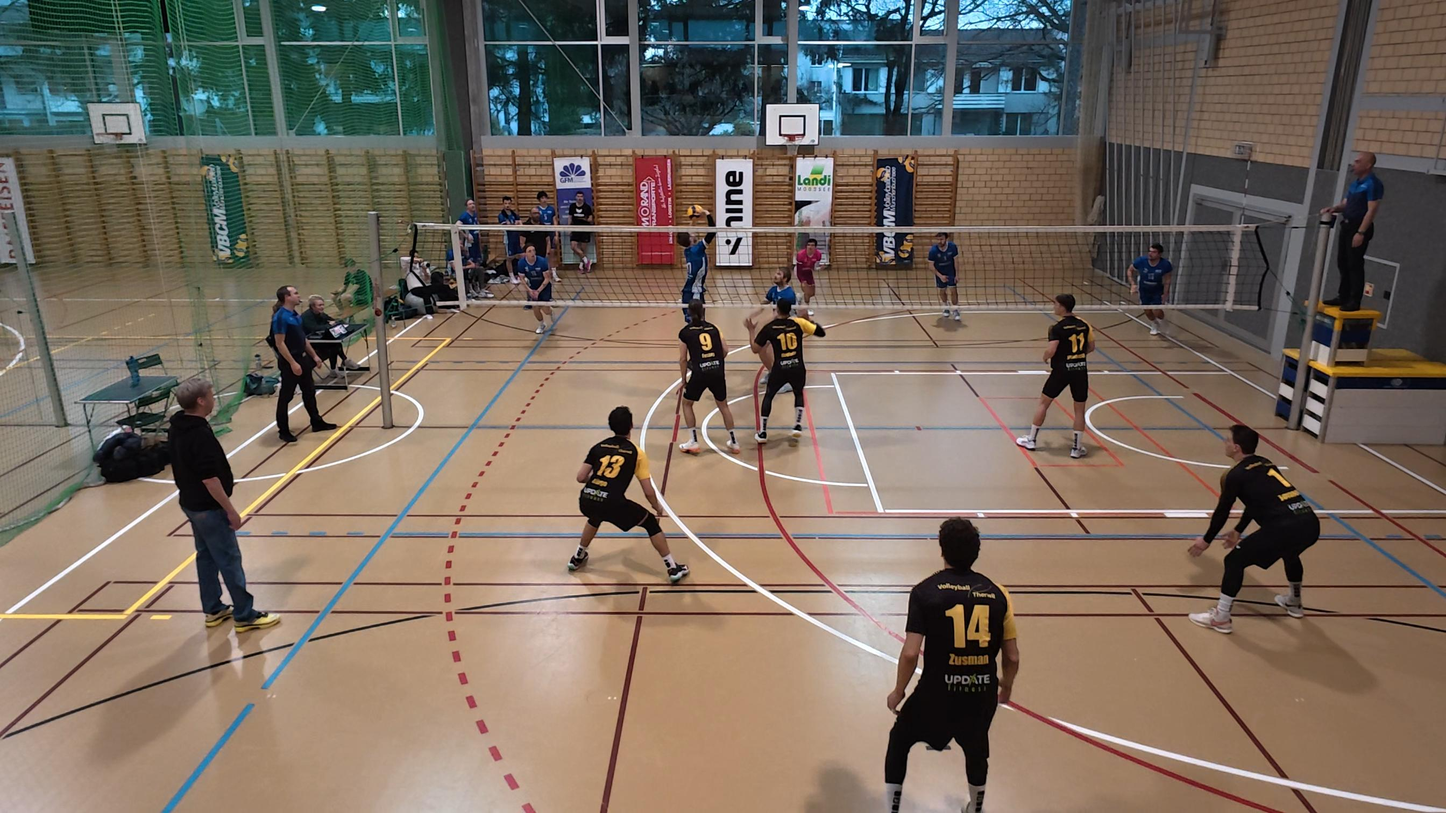alzata: (671, 204, 717, 313)
